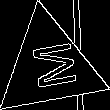M_W: (22, 39, 77, 94)
